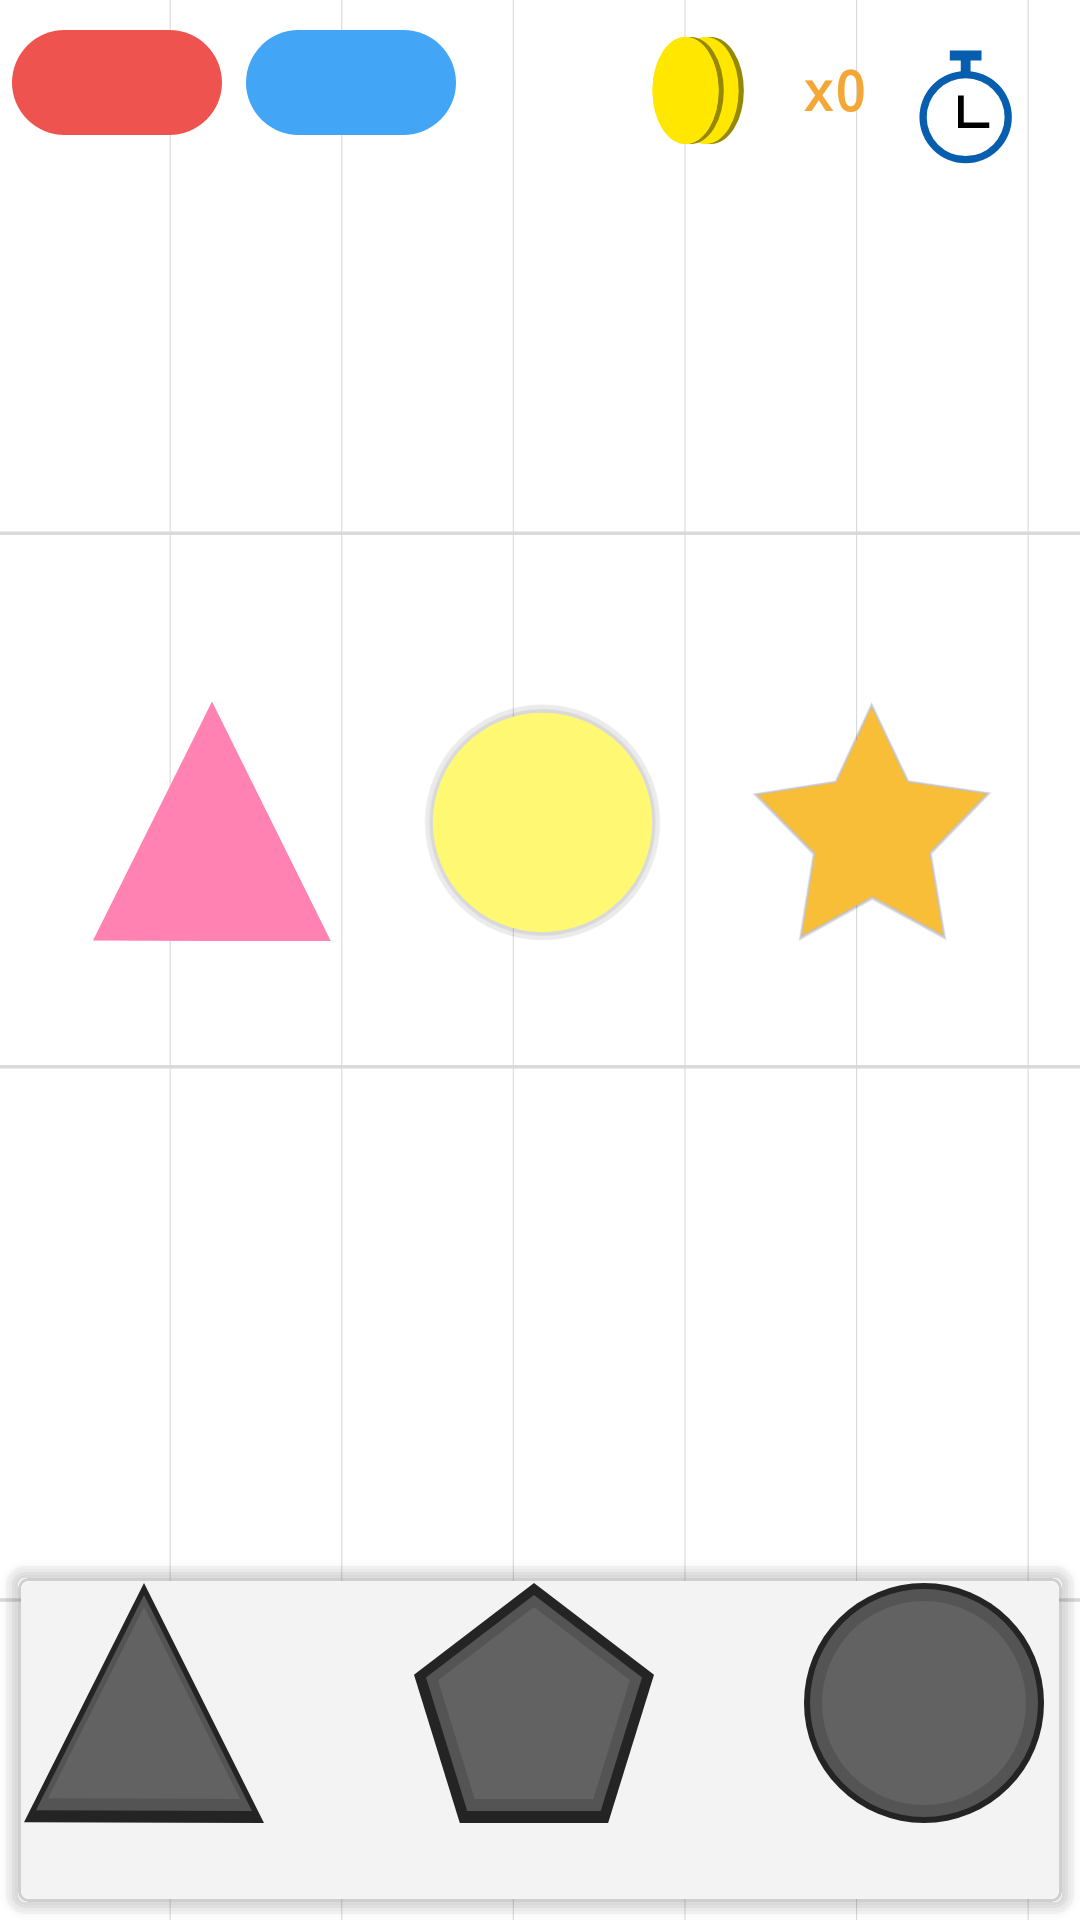

Icon click points for this 1080px×1920px phone screenshot, format (x=x, y=y):
circle: (x=542, y=821)
circle slock: (x=924, y=1703)
monedas: (x=698, y=90)
pentagon slock: (x=534, y=1703)
star: (x=872, y=821)
timer: (x=965, y=107)
triangle: (x=212, y=821)
triangle slock: (x=144, y=1703)
